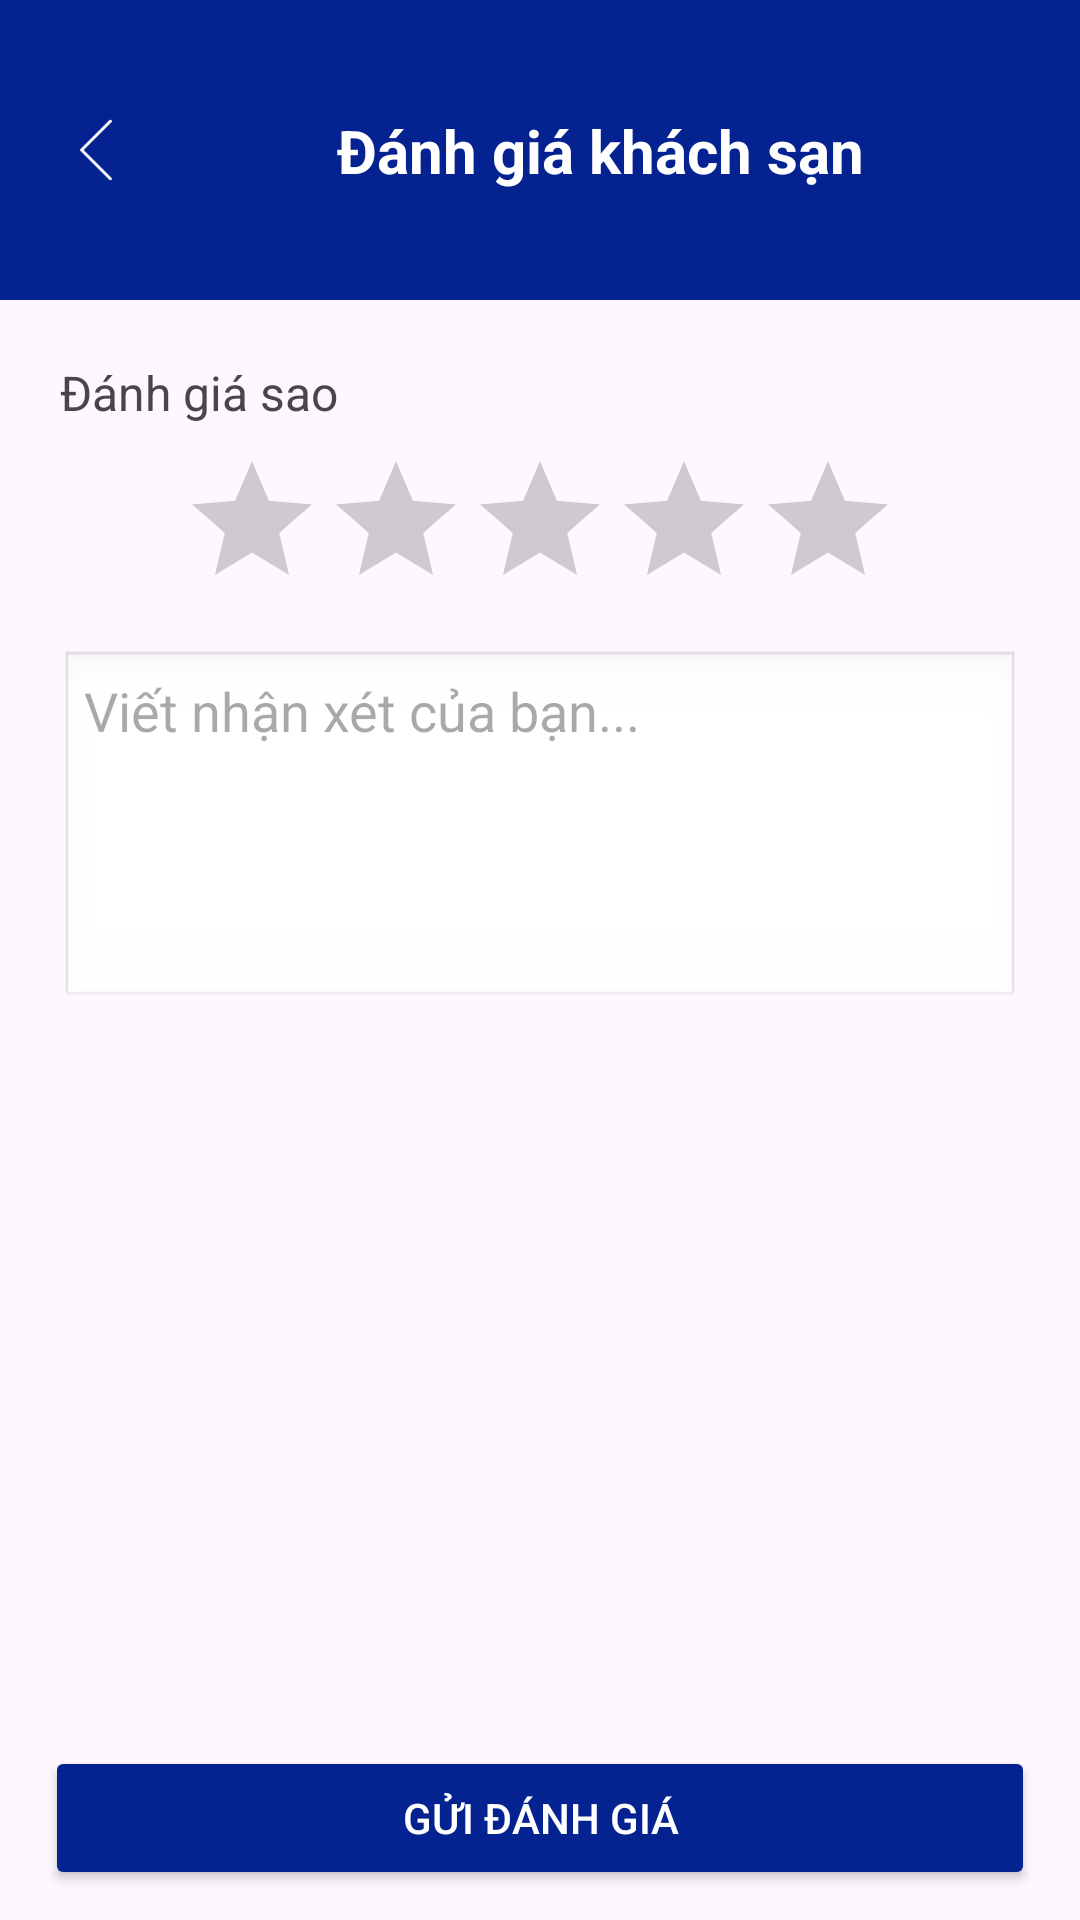

Icon click points for this 1080 × 1920 phone screenshot, format (x=x, y=y):
back: (x=96, y=150)
